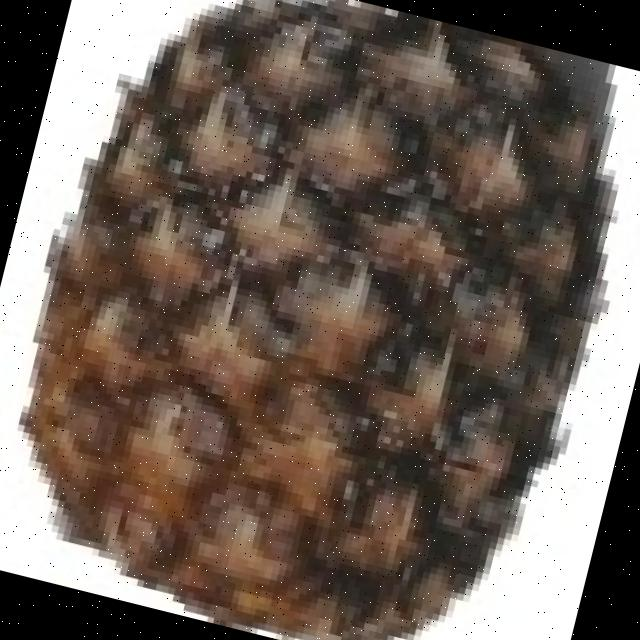pineapple: (22, 0, 610, 640)
